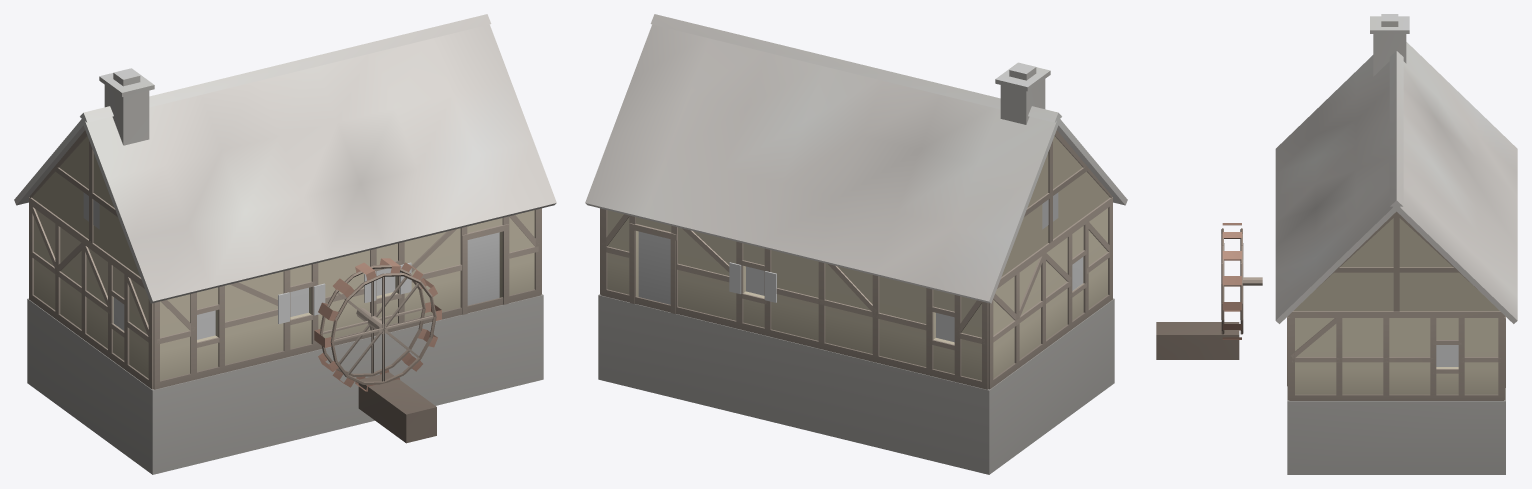
The model's file is watermill_1.glb.
The picture shows the model from 3 angles, left to right: view 1: azimuth 30°, elevation 25°; view 2: azimuth 150°, elevation 25°; view 3: azimuth 270°, elevation 25°; orthographic projection. The views are drawn at different scales.
Parts seen in each view (by area): view 1: watermill_1; view 2: watermill_1; view 3: watermill_1.
Part boxes in pixels (x1,y1,x2,y2): watermill_1: (14, 14, 556, 474); watermill_1: (585, 14, 1127, 474); watermill_1: (1156, 14, 1517, 474).
Size of the model in its own units: 11.77 by 9.74 by 10.45.
